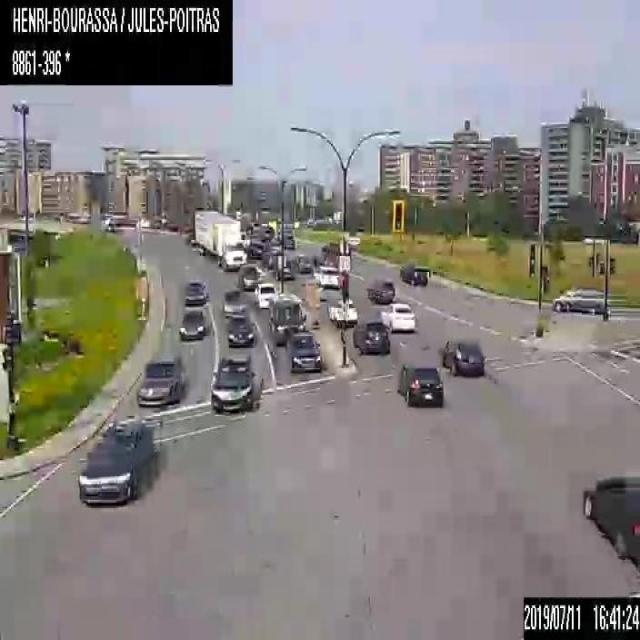vehicle: (76, 418, 152, 502), (580, 471, 639, 564), (194, 209, 246, 270), (208, 356, 256, 413), (135, 354, 182, 406), (395, 362, 442, 405), (268, 293, 305, 345), (442, 338, 483, 376), (552, 288, 608, 312), (288, 331, 320, 372), (352, 322, 390, 354), (380, 302, 413, 331), (227, 315, 255, 347), (326, 296, 357, 324), (178, 308, 205, 340), (366, 275, 394, 303), (222, 289, 246, 318), (398, 263, 428, 285), (183, 277, 208, 303), (253, 282, 277, 308), (313, 265, 339, 288), (238, 264, 260, 289), (245, 239, 263, 258), (293, 254, 311, 272)
